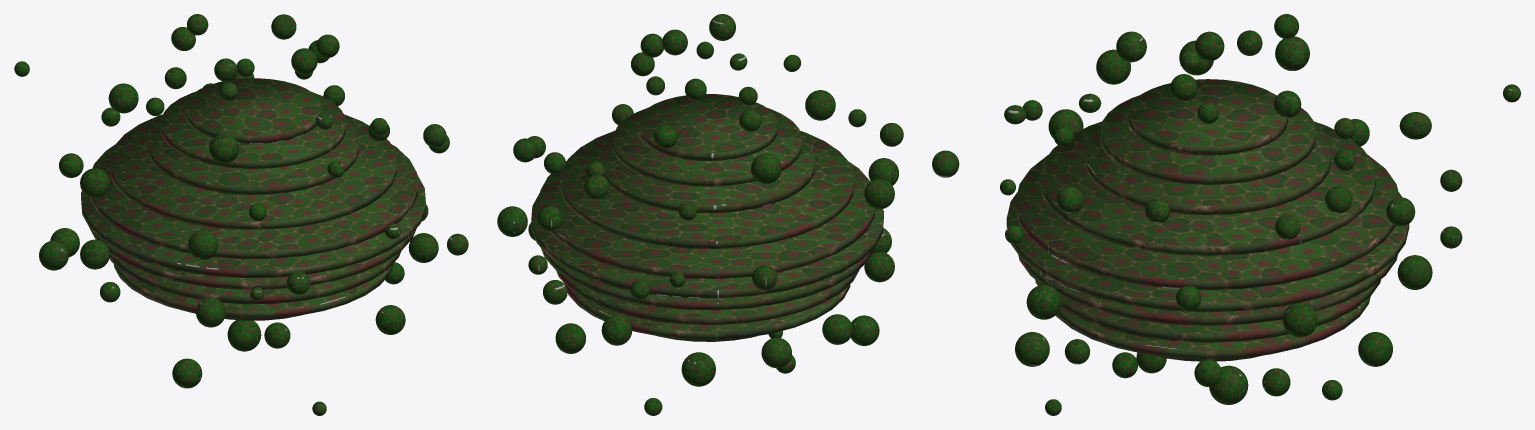
File: [2.0]Complexo de Golgi.obj
3 renders of one model, left to right at view 1: azimuth 30°, elevation 25°; view 2: azimuth 150°, elevation 25°; view 3: azimuth 270°, elevation 25°, orthographic. The views are drawn at different scales.
Visible parts, largest first — view 1: Circle_Circle.001; view 2: Circle_Circle.001; view 3: Circle_Circle.001.
Boxes of the visible parts, x1=… form: Circle_Circle.001: x1=14, y1=14, x2=468, y2=415; Circle_Circle.001: x1=497, y1=14, x2=903, y2=415; Circle_Circle.001: x1=932, y1=14, x2=1520, y2=415.
Bounding box in the file's own units: 1.83 × 1.65 × 2.21.
